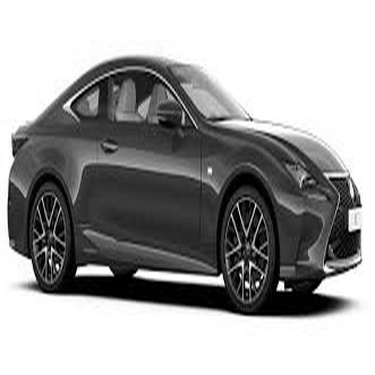car: (5, 42, 368, 315)
